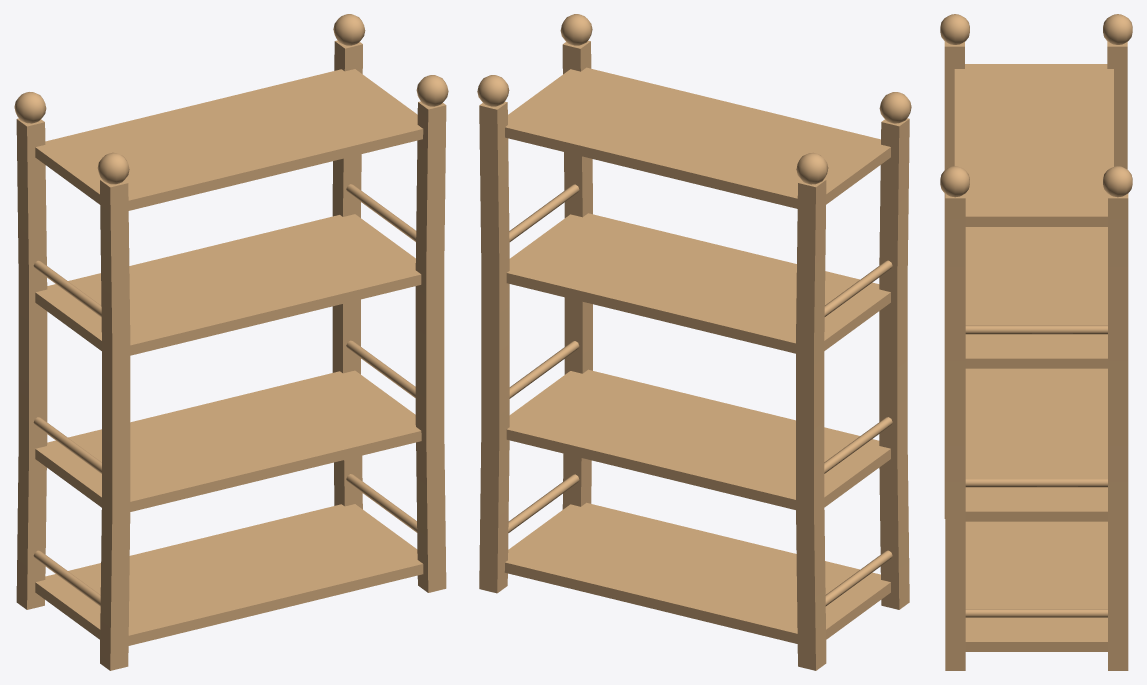
File: etagere.fbx
3 renders of one model, left to right at view 1: azimuth 30°, elevation 25°; view 2: azimuth 150°, elevation 25°; view 3: azimuth 270°, elevation 25°, orthographic. The views are drawn at different scales.
Parts seen in each view (by area): view 1: Etagere; view 2: Etagere; view 3: Etagere.
Boxes of the visible parts, x1,y1,x2,y2 form: Etagere: (14,14,448,670); Etagere: (477,14,911,670); Etagere: (940,14,1132,670).
Size of the model in its own units: 18.22 by 25.65 by 8.97.
